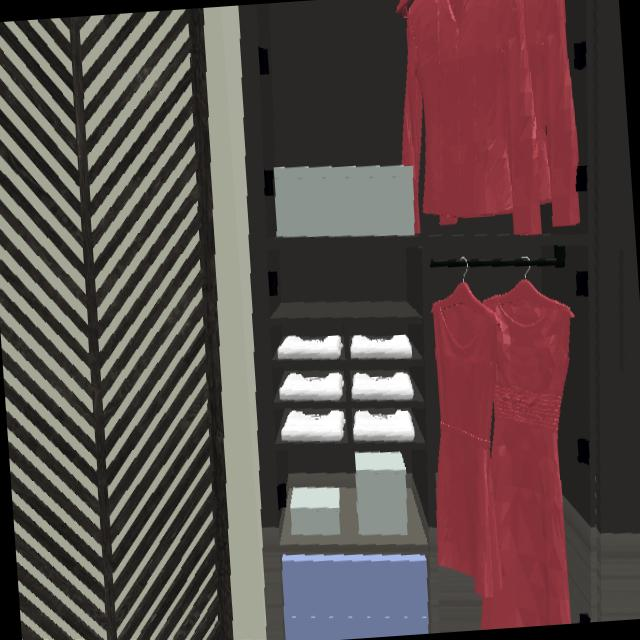wardrobe: (238, 0, 640, 640)
